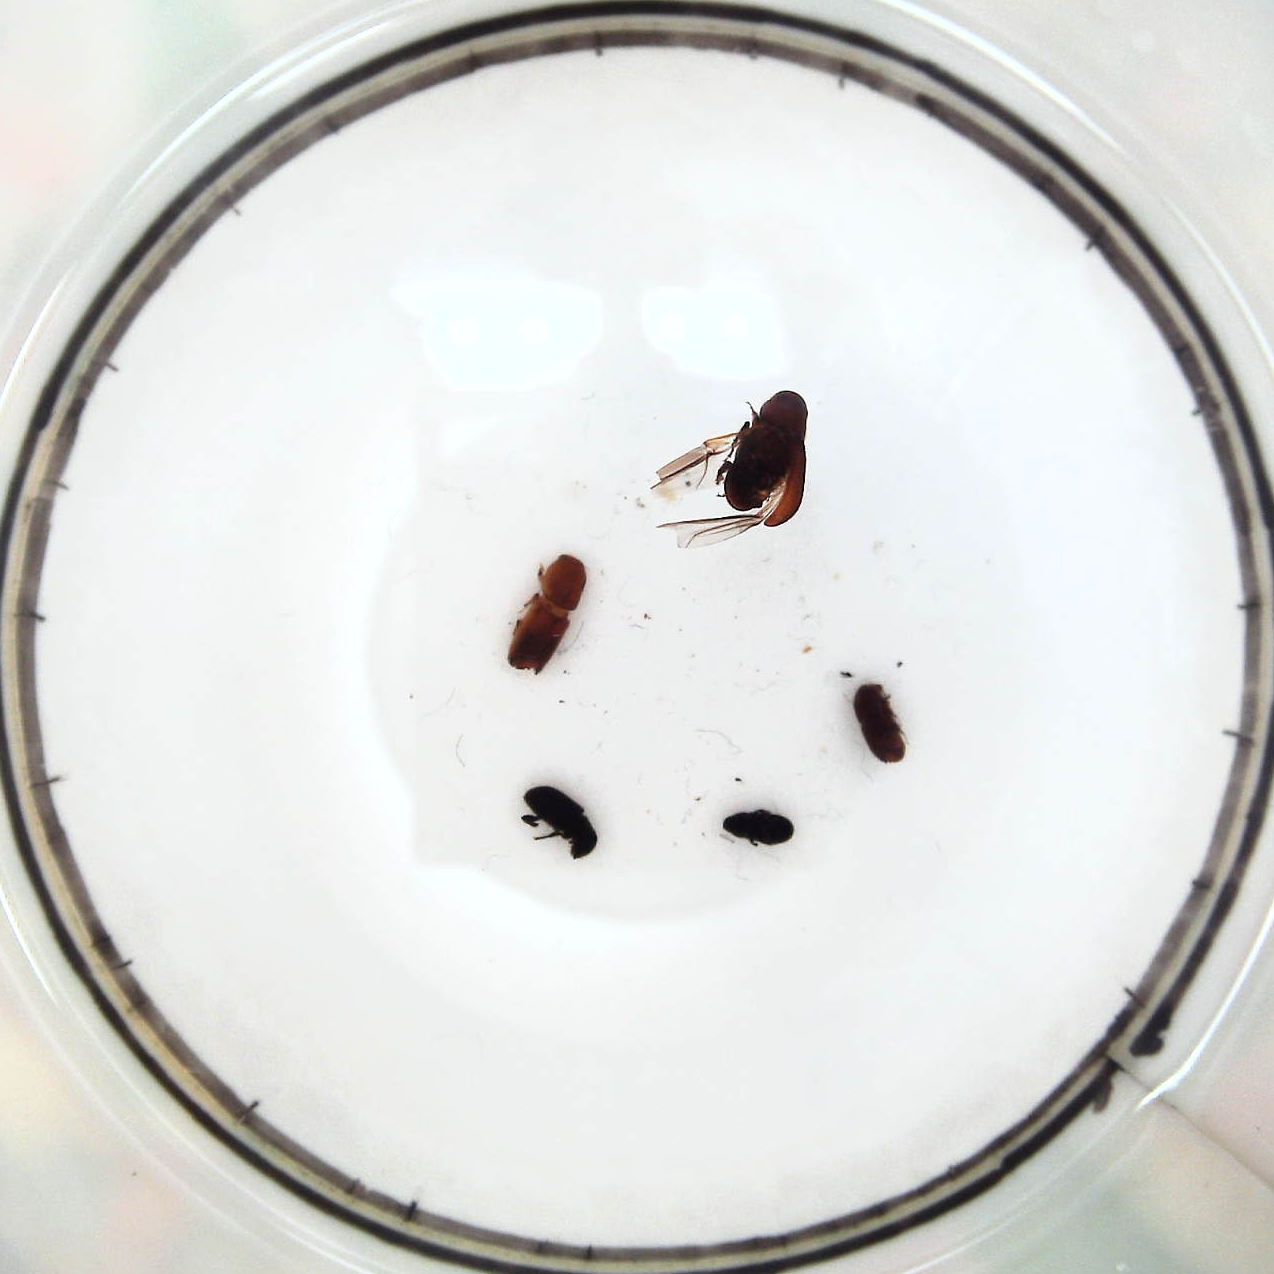Boerner: (508, 554, 583, 677)
Leconte: (654, 390, 808, 544)
Linnaeus: (853, 681, 907, 768)
armandi: (523, 780, 598, 863)
coleoptera: (720, 805, 794, 848)
